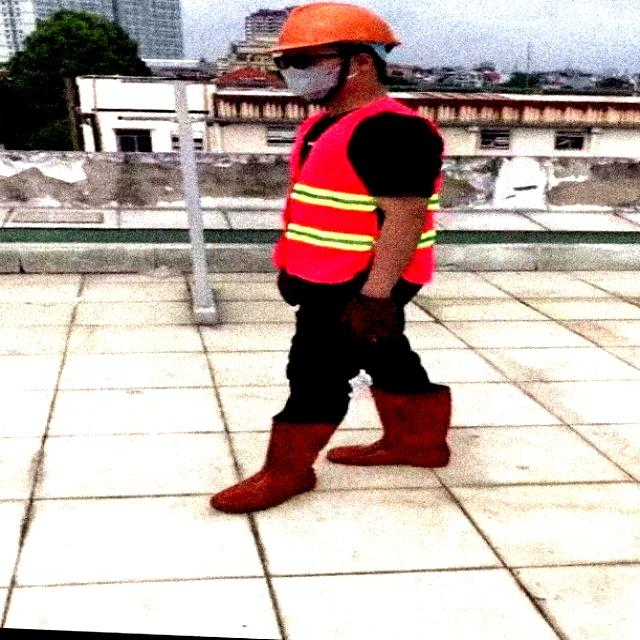helmet: (257, 2, 413, 56)
safety_vest: (268, 100, 442, 296)
